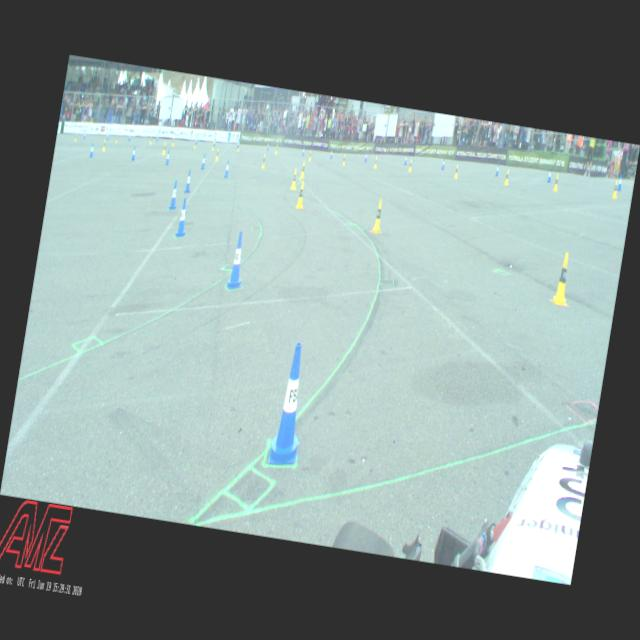blue_cone: (268, 343, 314, 467), (226, 231, 250, 289), (175, 198, 191, 238), (169, 180, 180, 210), (184, 168, 193, 194), (224, 160, 231, 178), (617, 175, 623, 191), (165, 150, 171, 166), (201, 154, 207, 170), (90, 142, 94, 158), (548, 168, 552, 182), (132, 147, 136, 160), (496, 163, 500, 176), (442, 158, 446, 170), (404, 154, 408, 166), (364, 152, 368, 162), (330, 148, 333, 158), (267, 143, 270, 151), (237, 140, 240, 148), (302, 148, 305, 156), (106, 132, 109, 140), (128, 134, 131, 141), (83, 132, 86, 138), (214, 138, 216, 146), (196, 136, 198, 144), (156, 135, 158, 142)
yellow_cone: (550, 252, 574, 306), (372, 198, 384, 232), (296, 181, 306, 209), (290, 168, 298, 190), (612, 179, 620, 199), (553, 174, 560, 192), (504, 169, 511, 186), (300, 162, 306, 178), (214, 148, 220, 161), (454, 164, 459, 179), (408, 160, 413, 172), (162, 142, 166, 156), (262, 154, 266, 168), (342, 155, 347, 166), (374, 156, 378, 168), (102, 139, 106, 151), (309, 151, 312, 161), (74, 132, 77, 142), (194, 140, 197, 150), (275, 145, 278, 154), (212, 141, 215, 150), (115, 135, 118, 143), (172, 138, 175, 146), (150, 136, 152, 145), (238, 142, 240, 151)
